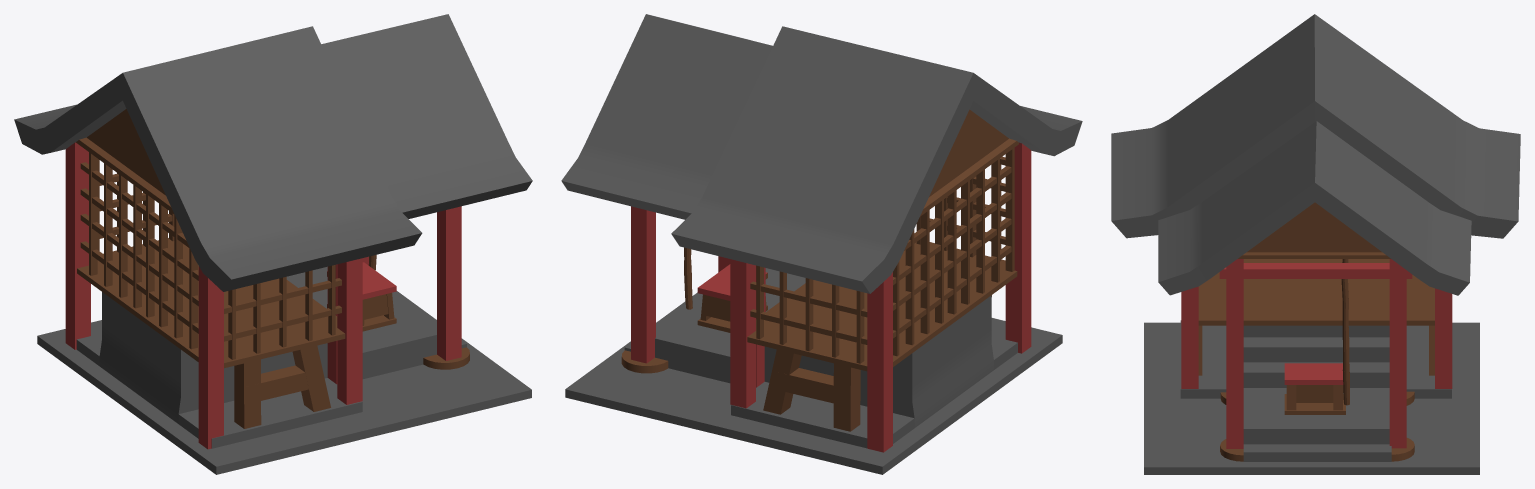
Rendered from shrineBig.fbx.
The picture shows the model from 3 angles, left to right: view 1: azimuth 30°, elevation 25°; view 2: azimuth 150°, elevation 25°; view 3: azimuth 270°, elevation 25°; orthographic projection. The views are drawn at different scales.
Visible parts, largest first — view 1: shrine; view 2: shrine; view 3: shrine.
Boxes of the visible parts, x1,y1,x2,y2 form: shrine: (14, 14, 532, 474); shrine: (561, 14, 1082, 474); shrine: (1111, 14, 1520, 474).
Bounding box in the file's own units: 4.33 × 4.25 × 5.
